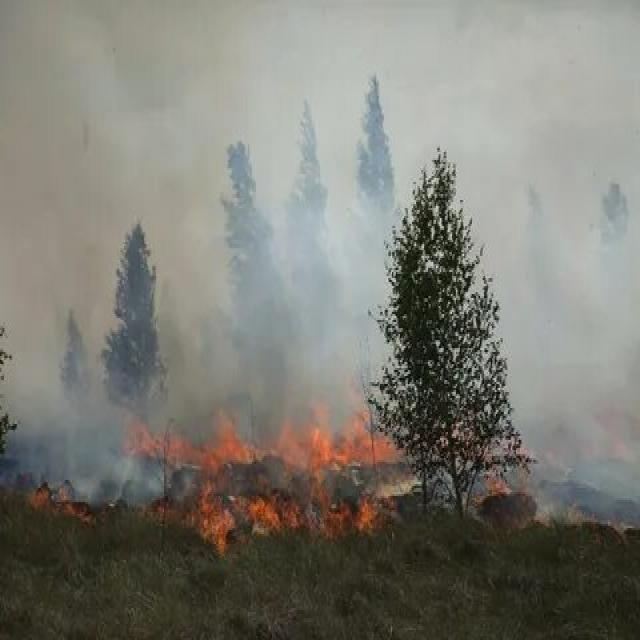Fire: (95, 386, 382, 560)
Smoke: (220, 76, 640, 457)
